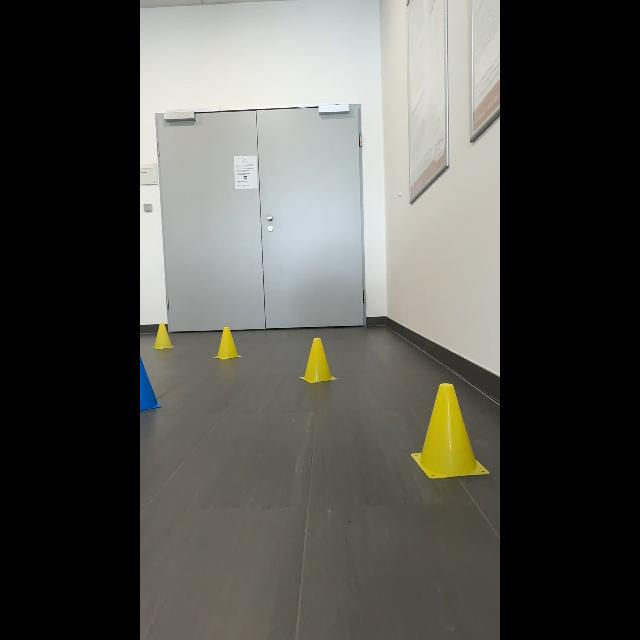yellow_cone: (406, 378, 490, 486), (296, 334, 342, 388), (210, 322, 246, 364), (152, 317, 176, 355)
